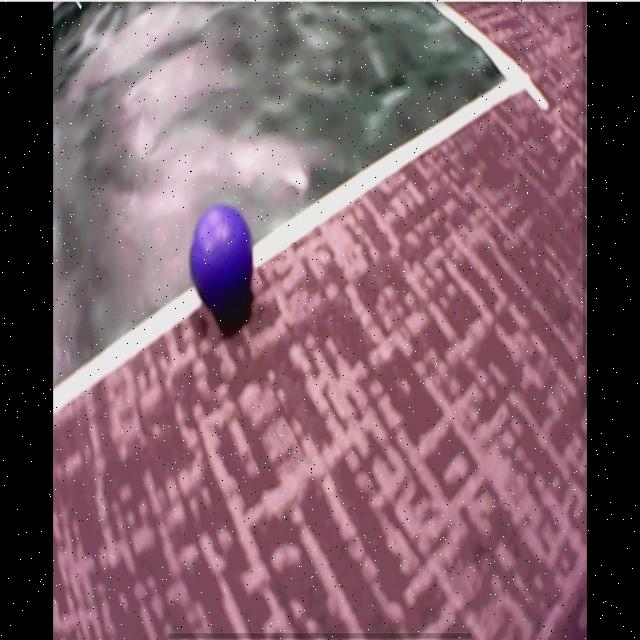ball: (191, 206, 253, 306)
